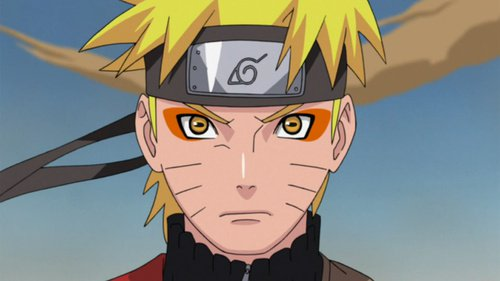naruto: (131, 20, 358, 258)
